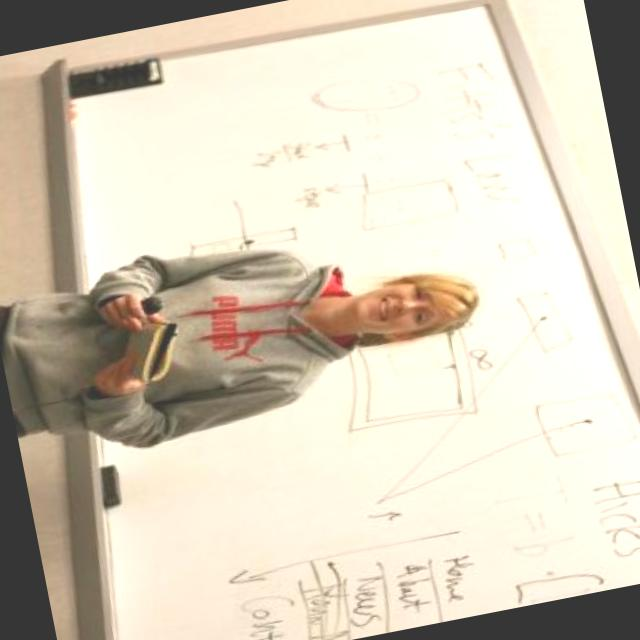Instructor: (0, 203, 505, 464)
White-board: (45, 0, 640, 640)
